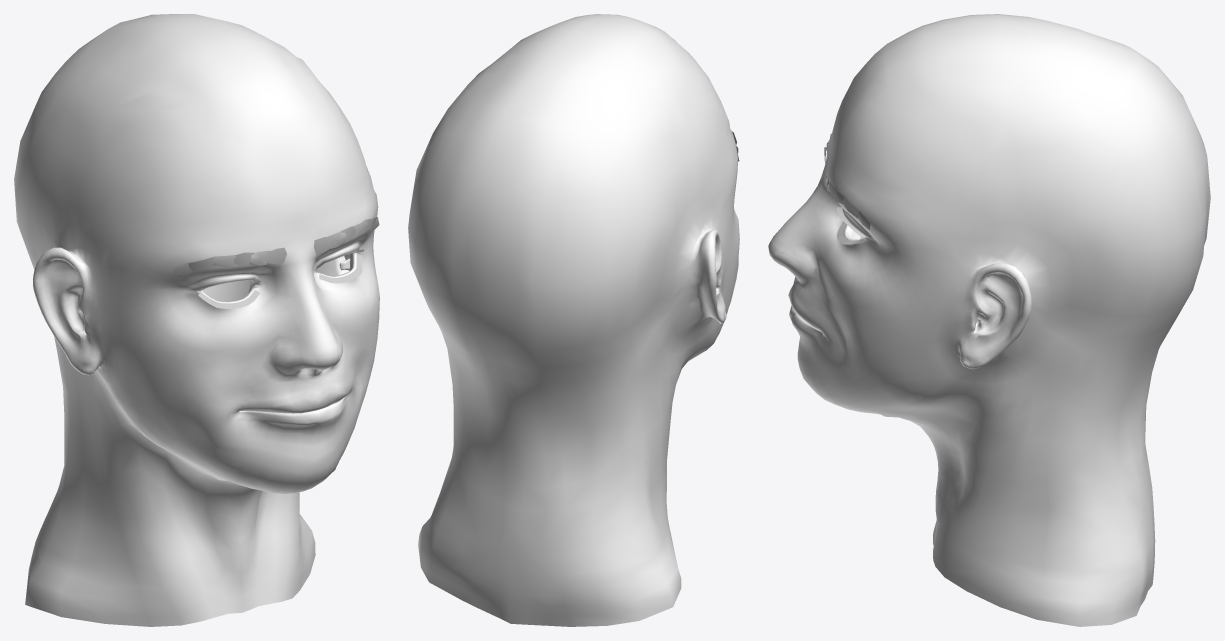
Rendered from mouthDimpleRight.obj.
3 views of the same model, side by side, from view 1: azimuth 30°, elevation 25°; view 2: azimuth 150°, elevation 25°; view 3: azimuth 270°, elevation 25° (orthographic). The views are drawn at different scales.
Parts seen in each view (by area): view 1: FaceMesh_Plane.003; view 2: FaceMesh_Plane.003; view 3: FaceMesh_Plane.003.
Part boxes in pixels (x1=…): FaceMesh_Plane.003: x1=14, y1=14, x2=379, y2=626; FaceMesh_Plane.003: x1=408, y1=14, x2=739, y2=626; FaceMesh_Plane.003: x1=768, y1=14, x2=1210, y2=626.
Size of the model in its own units: 1.54 by 2.71 by 1.94.
5 materials, 1 textured.
